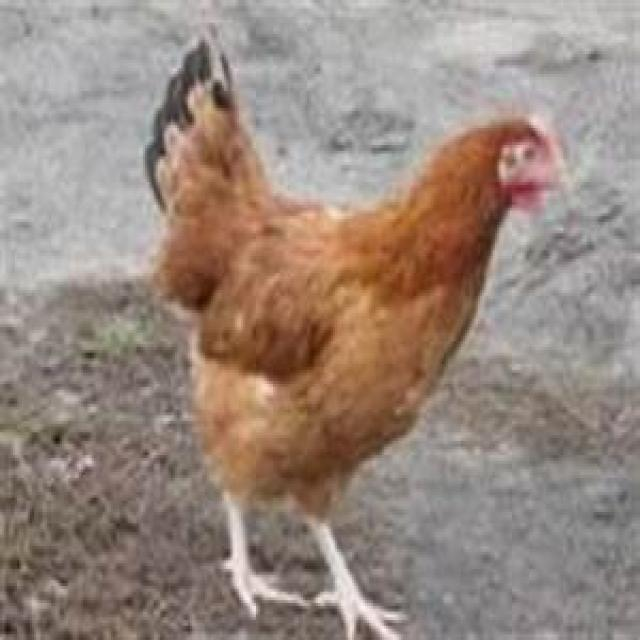hen: (145, 37, 565, 640)
